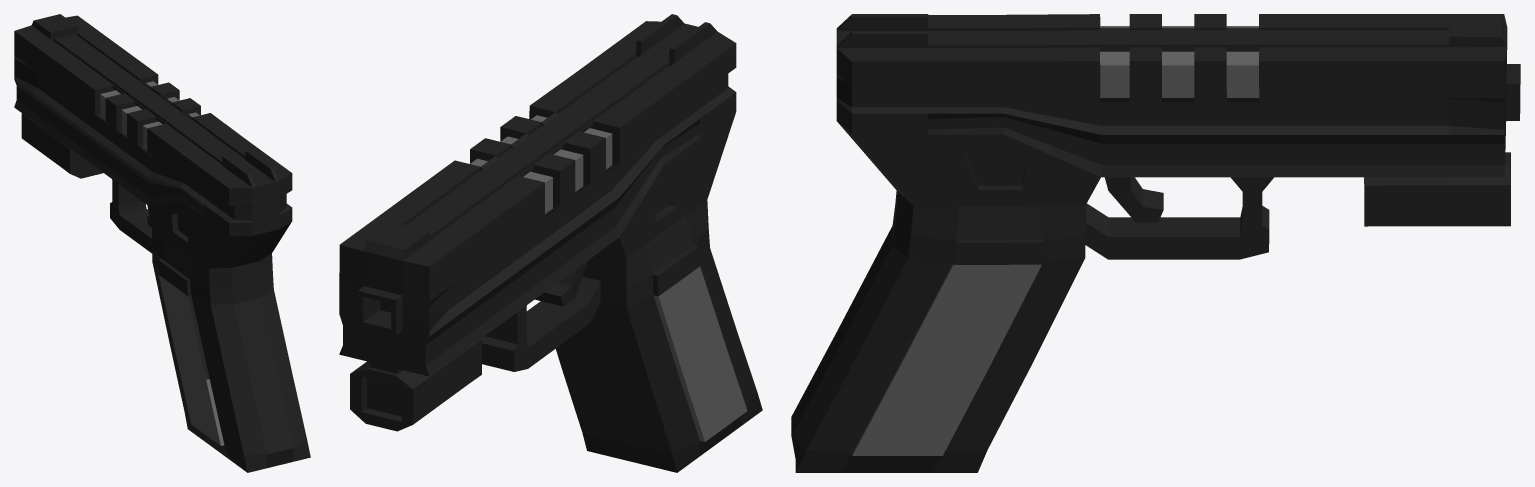
Rendered from gun4.fbx.
3 views of the same model, side by side, from view 1: azimuth 30°, elevation 25°; view 2: azimuth 150°, elevation 25°; view 3: azimuth 270°, elevation 25° (orthographic). The views are drawn at different scales.
Parts seen in each view (by area): view 1: Cube.001; view 2: Cube.001; view 3: Cube.001.
Boxes of the visible parts, x1,y1,x2,y2 form: Cube.001: [14, 14, 310, 472]; Cube.001: [339, 14, 762, 472]; Cube.001: [791, 14, 1520, 472].
Size of the model in its own units: 80.16 by 271 by 421.
1 material, 1 textured.
